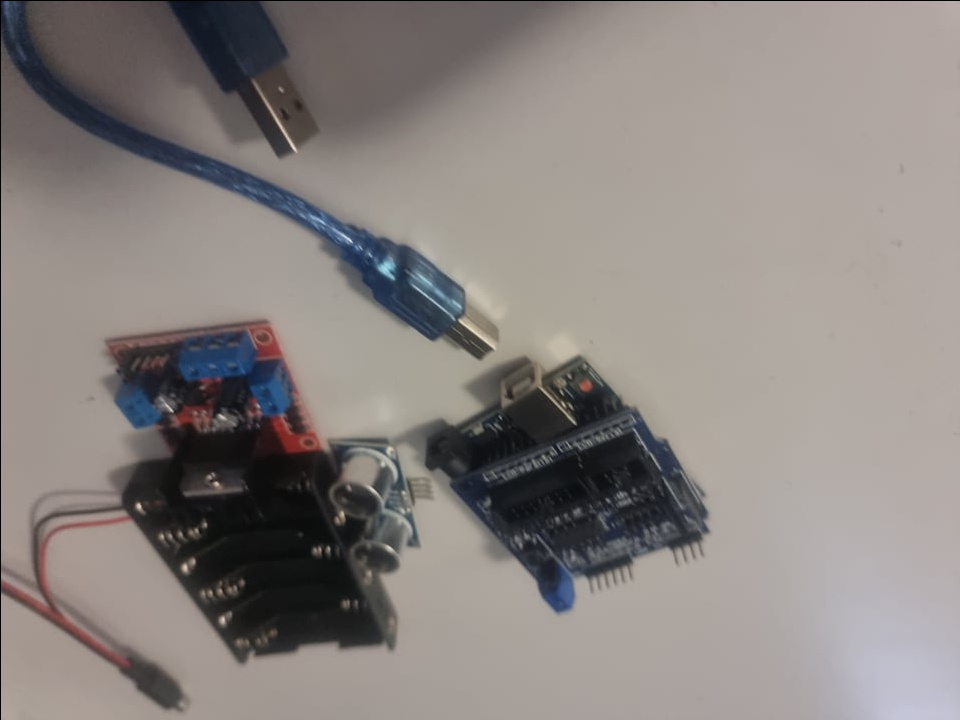5V EXPANSION: (460, 424, 709, 610)
BATTERY BOX: (116, 469, 399, 669)
MOTOR: (104, 314, 315, 506)
SENSOR: (332, 437, 412, 576)
UNO R3: (416, 356, 611, 471)
